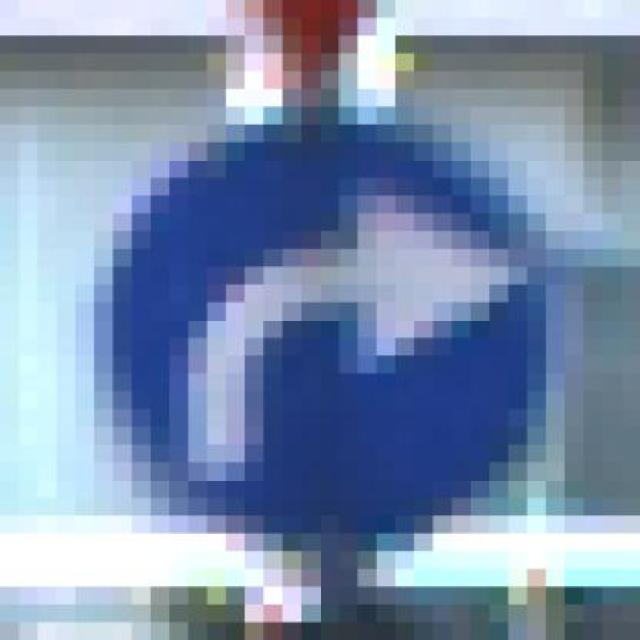Turn right ahead: (76, 89, 564, 586)
